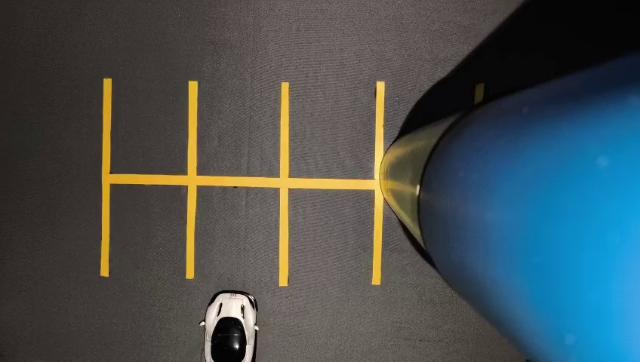toy_car: (195, 279, 273, 362)
